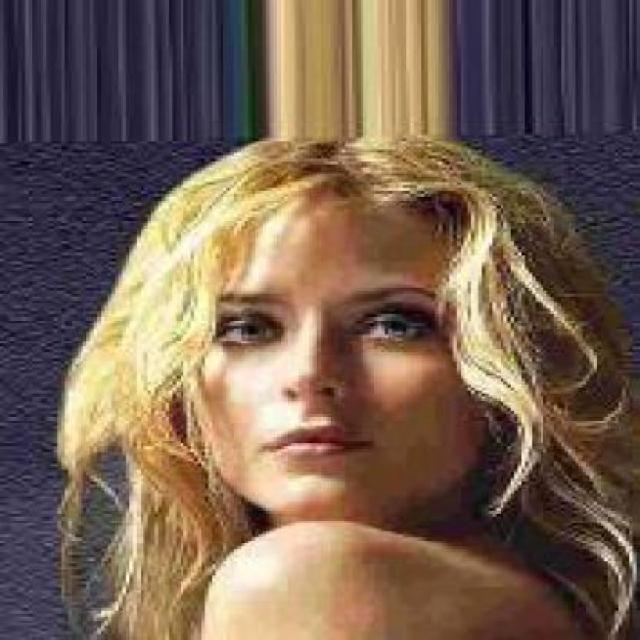closed-mouth: (261, 420, 367, 462)
